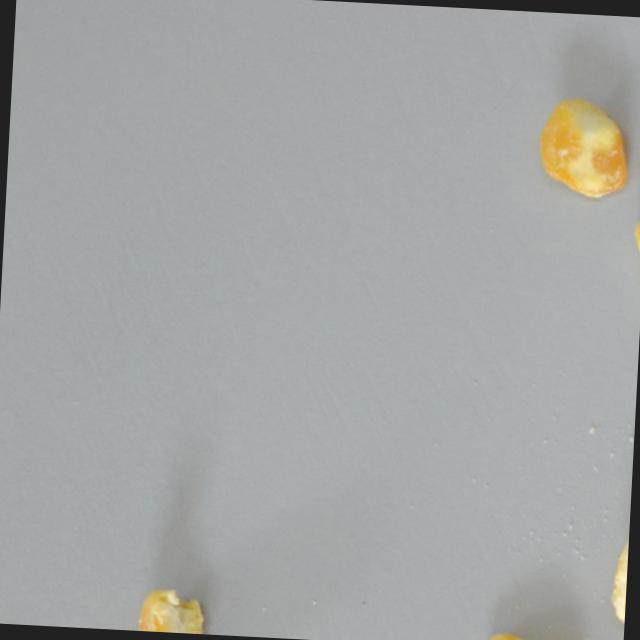pelicula: (532, 92, 637, 203), (136, 585, 209, 634), (606, 510, 630, 634), (481, 629, 584, 640), (628, 206, 640, 280)
